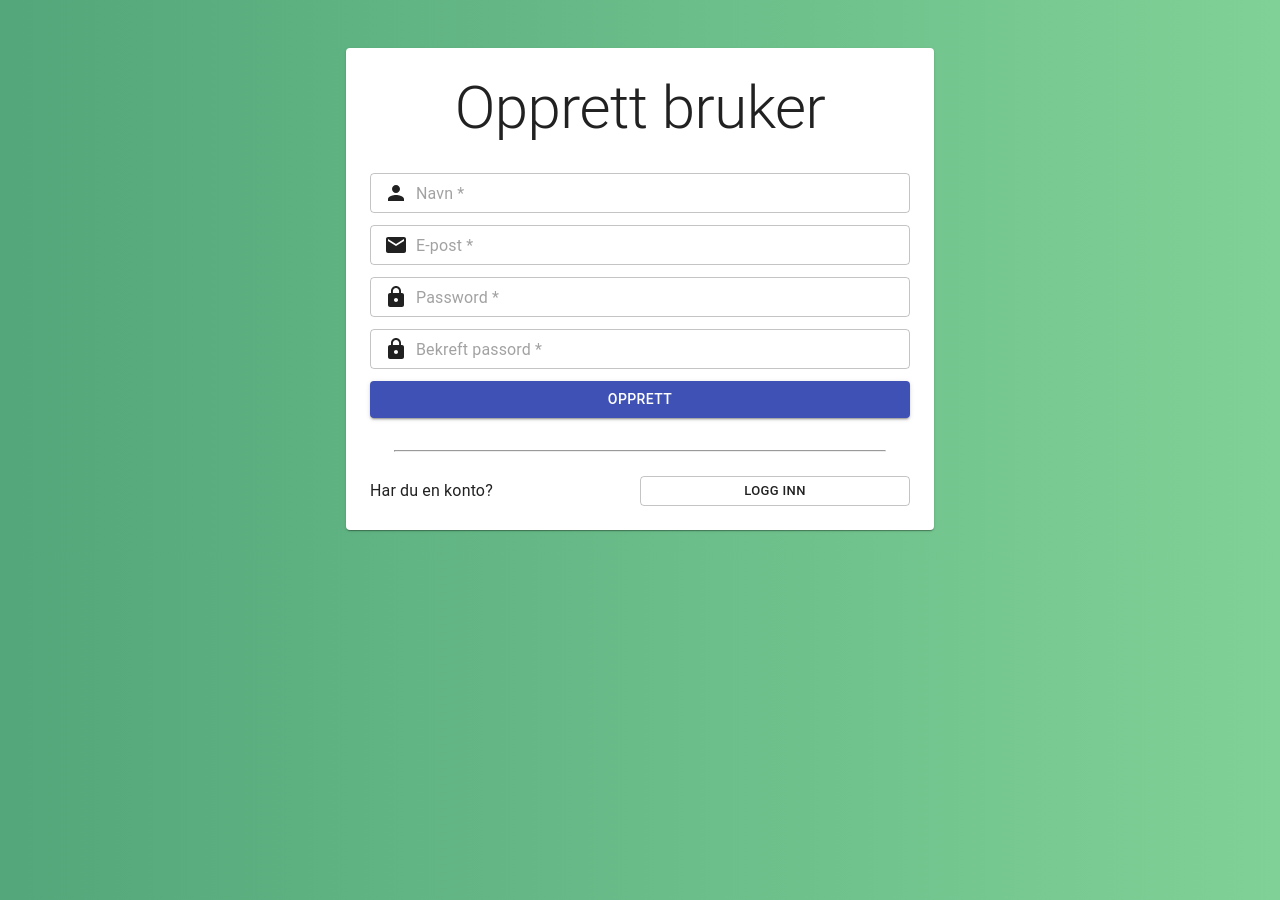
Test: Signup component › should show an error message if the password is not good enough
The image size is (1280, 900).
Step 1. Type "test" into the field with placeholder "Navn *" → (663, 193), box x1=416 y1=173 x2=910 y2=213
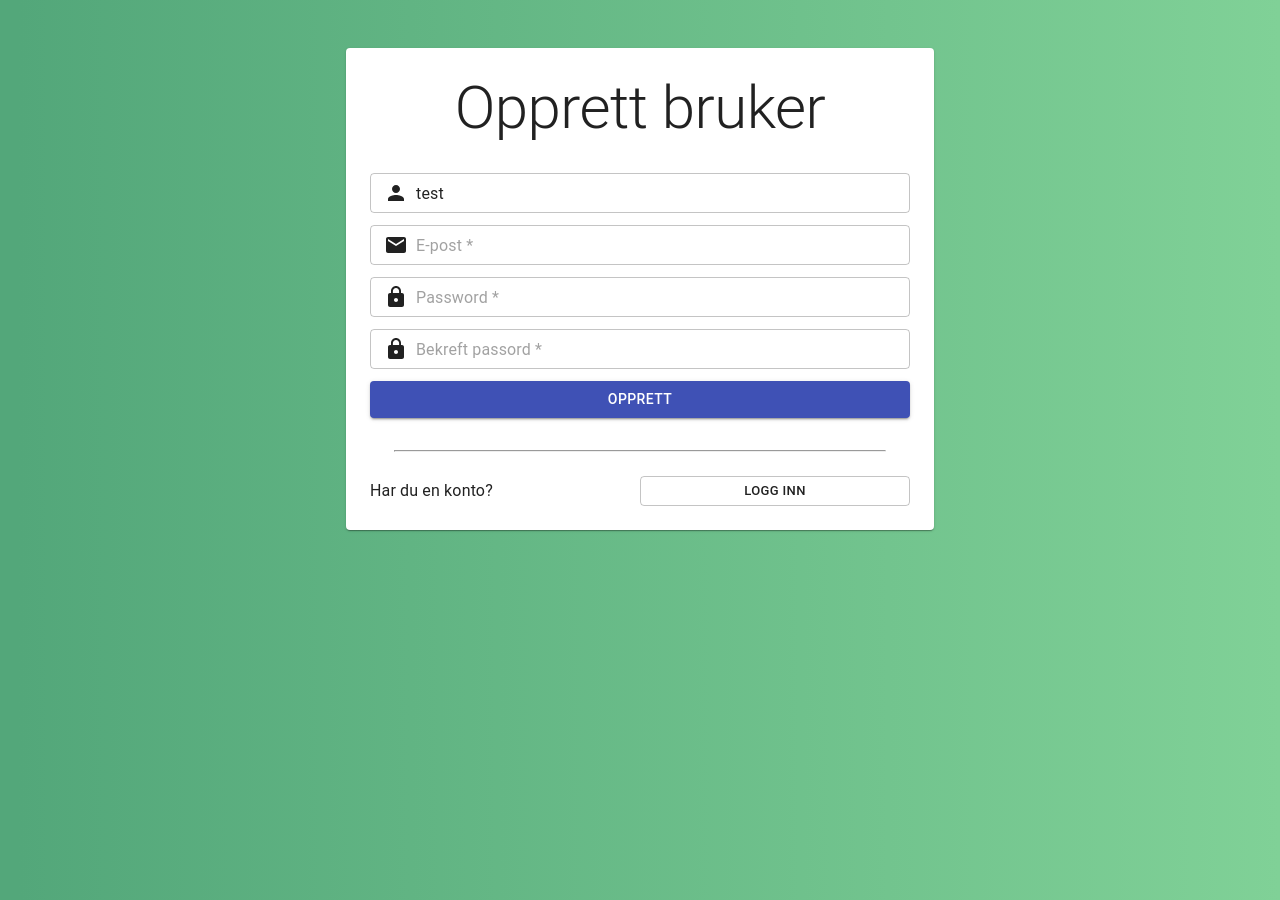
Step 2. Type "testing@lim.no" into the field with placeholder "E-post *" → (663, 245), box x1=416 y1=225 x2=910 y2=265
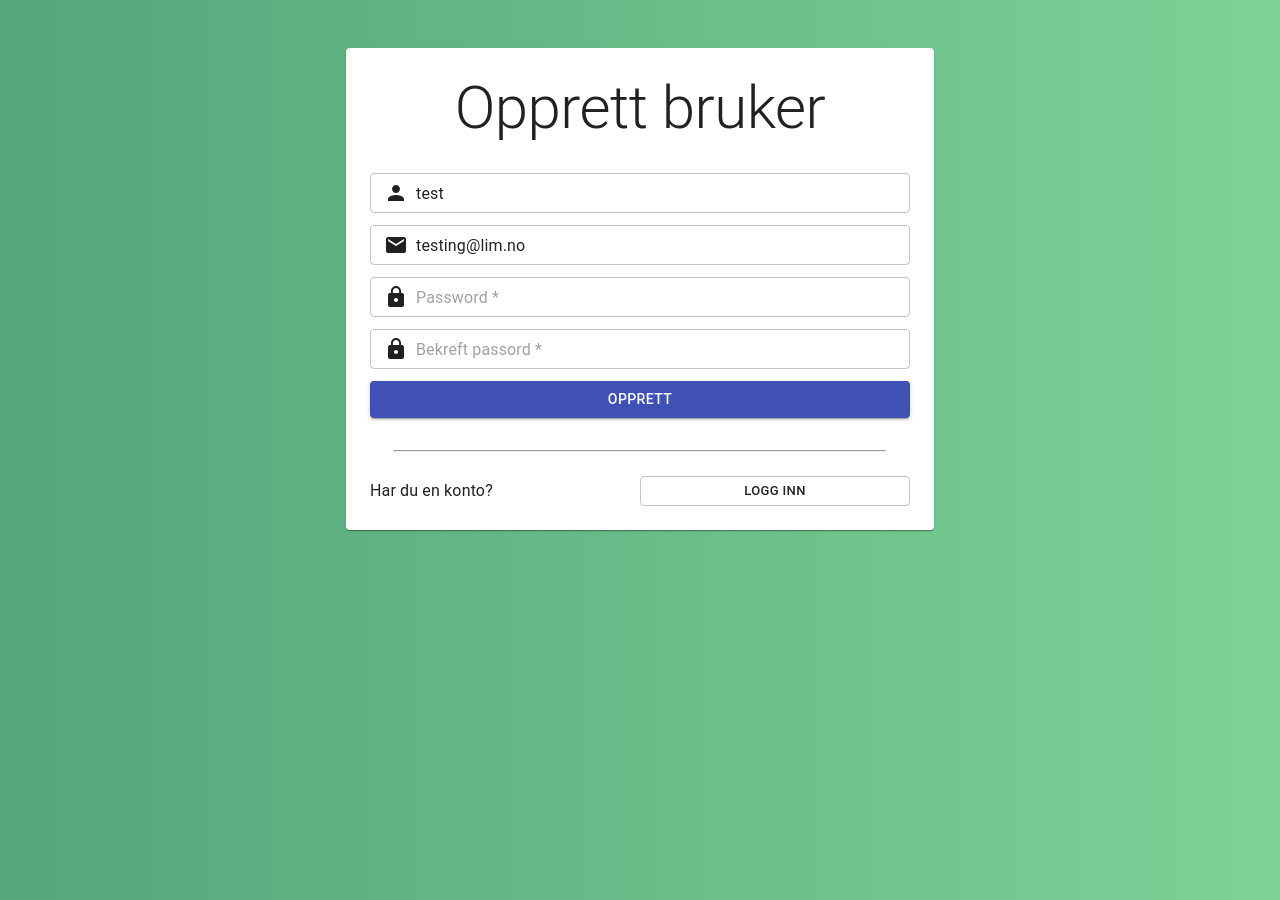
Step 3. Type "Test1234" into the password field with placeholder "Password *" → (663, 297), box x1=416 y1=277 x2=910 y2=317
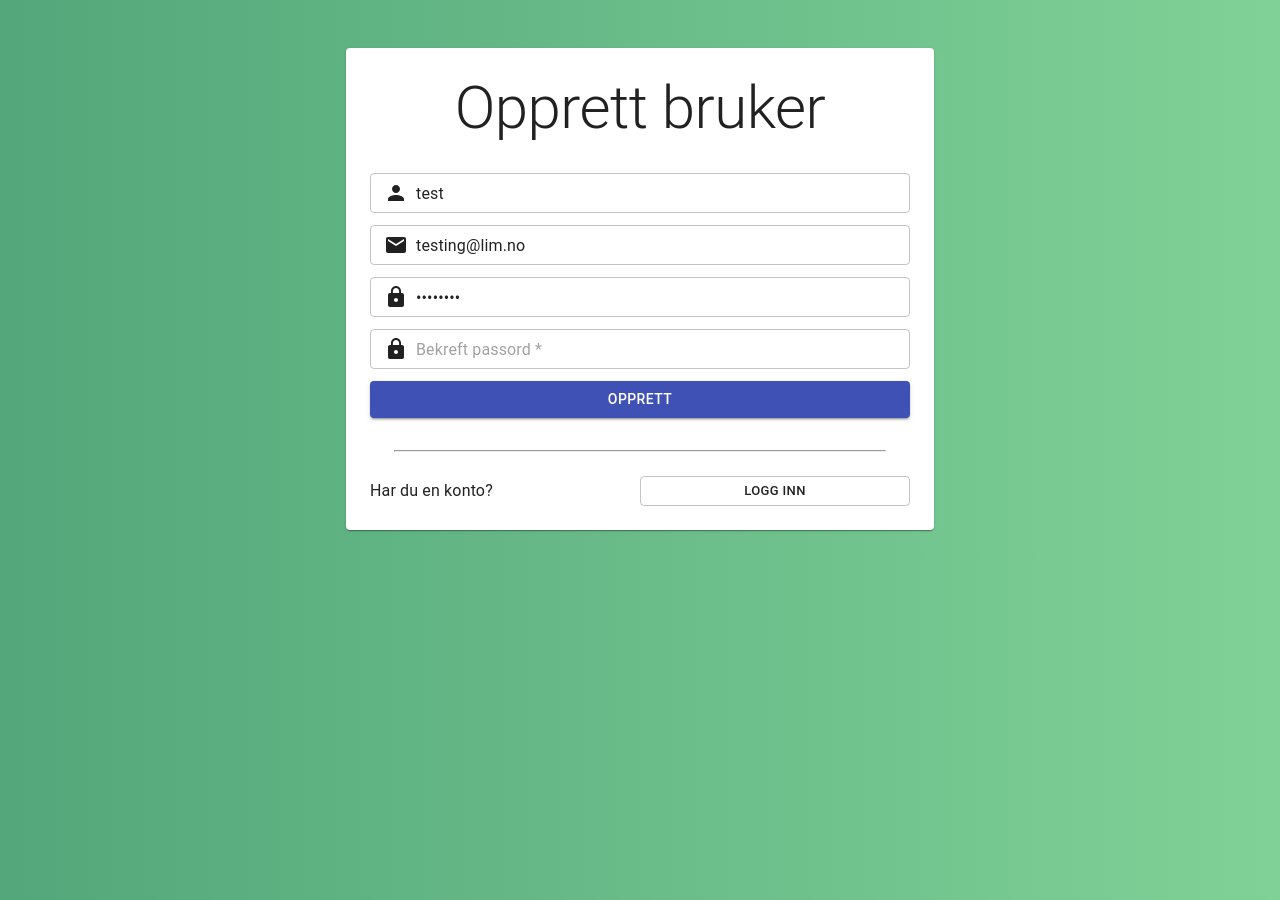
Step 4. Type "Test1234" into the password field with placeholder "Bekreft passord *" → (663, 349), box x1=416 y1=329 x2=910 y2=369
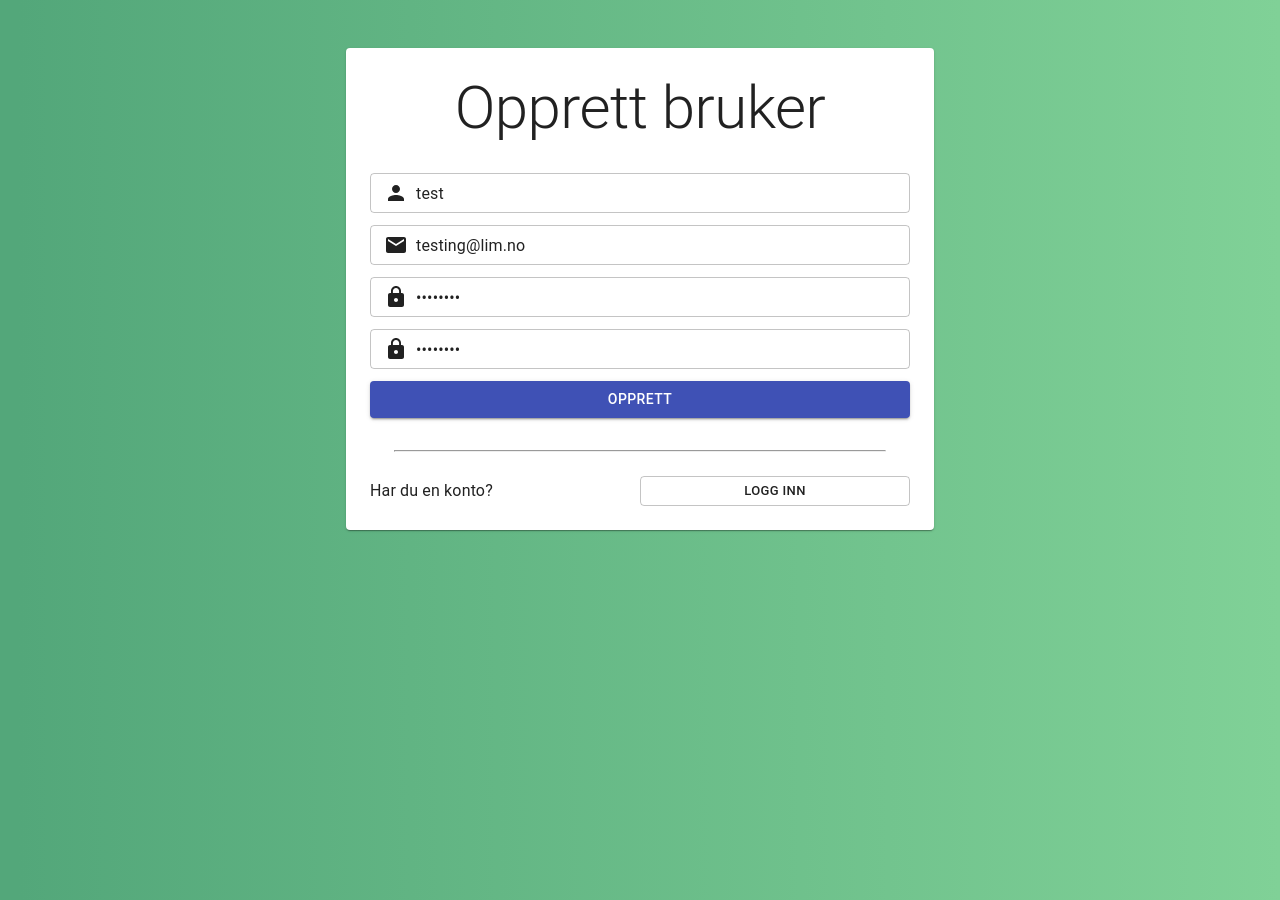
Step 5. Click the button with test id "signUpButton" → (640, 399), box x1=370 y1=381 x2=910 y2=418
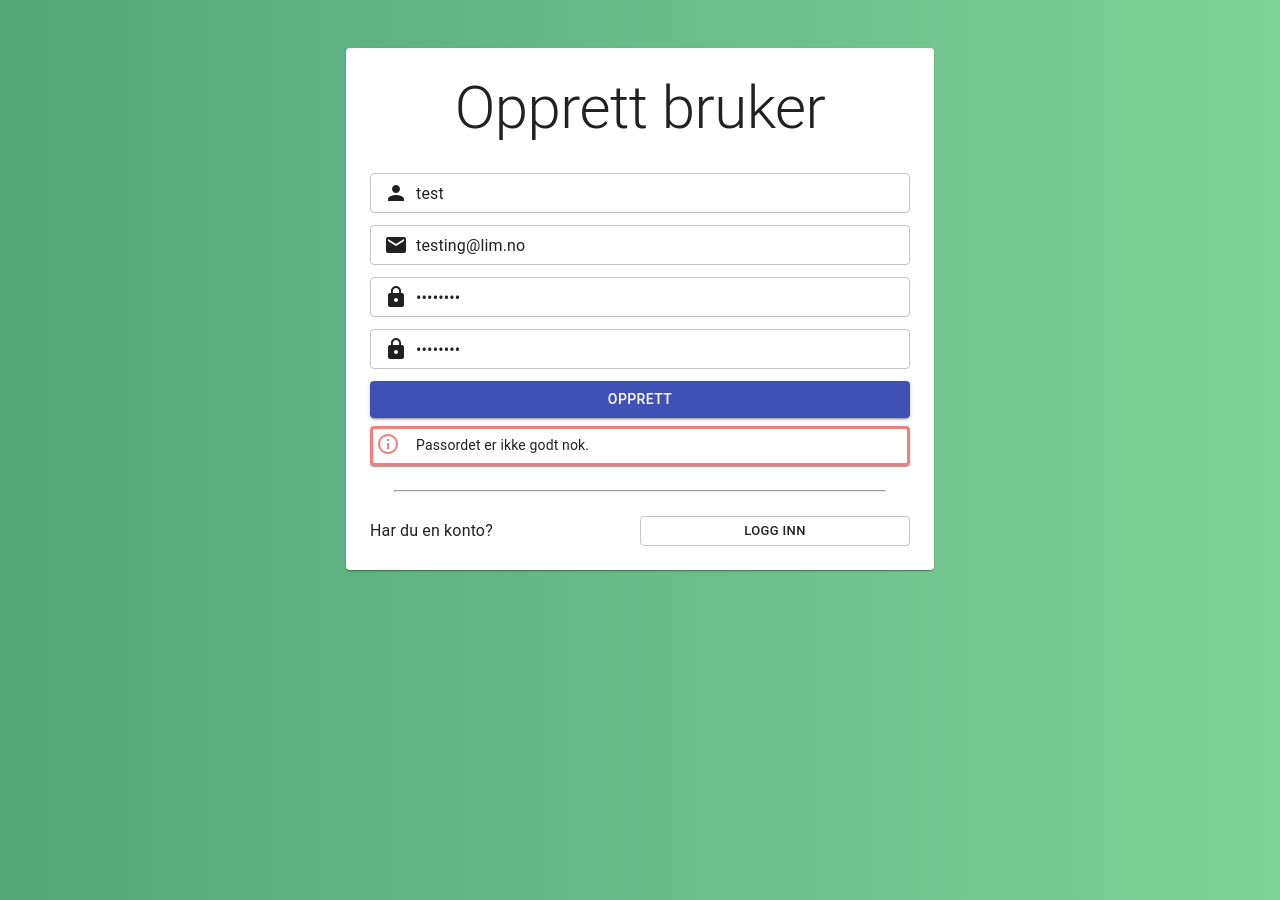
Expected: the text "Passordet er ikke godt nok." is shown, x1=416 y1=438 x2=589 y2=454
